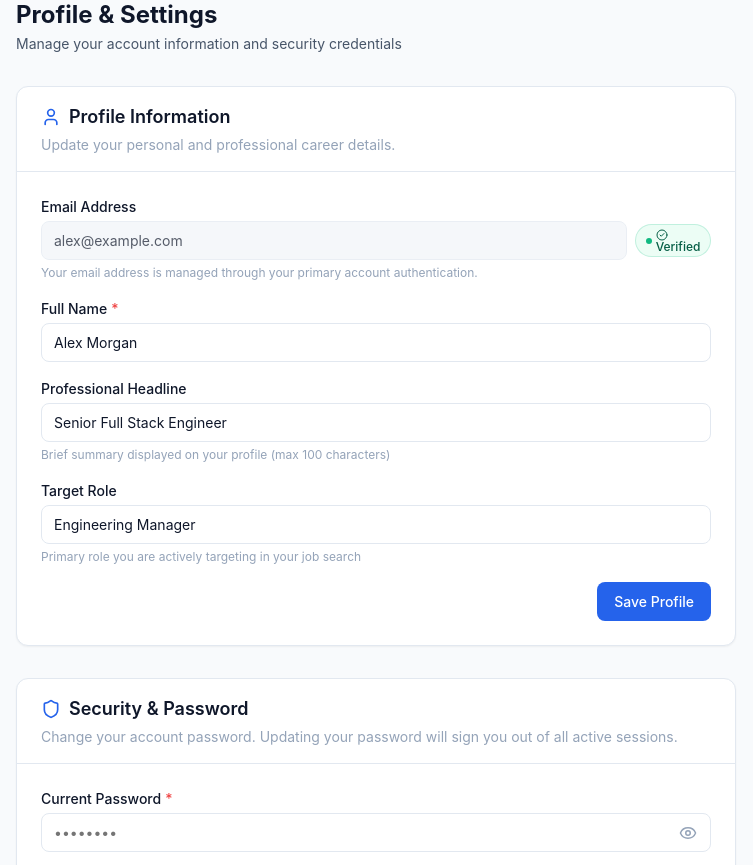
ProfilePage Component (Phase 6.5C) › 16. validates that confirm password must match new password
The width and height of the screenshot is (753, 865).
Type "OldPass123!" into the password field labelled "Current Password *" at (376,832), box [41,813,711,852]
(page scrolled)
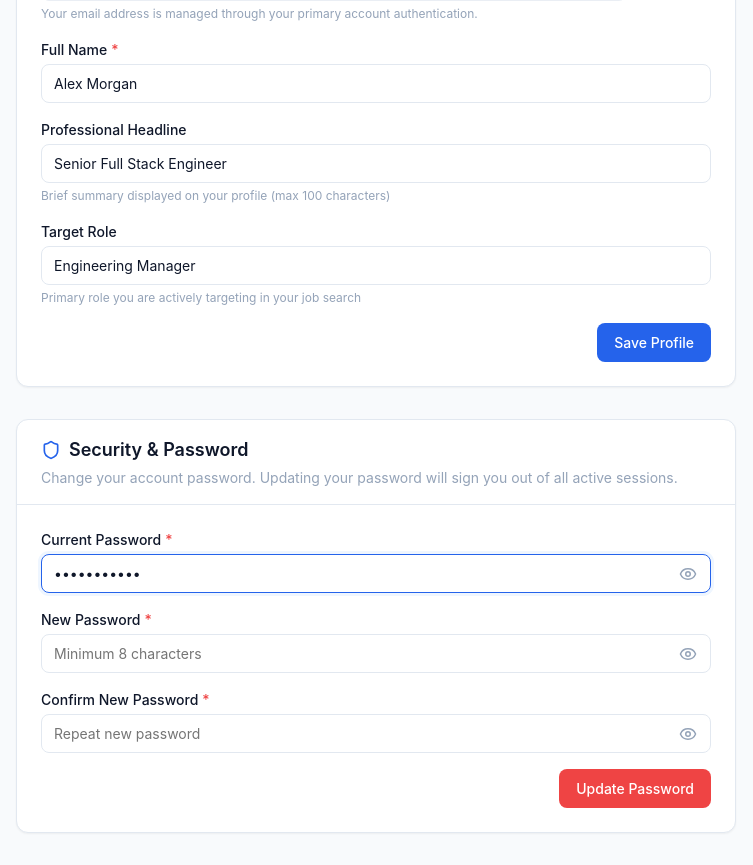
Type "NewStrongPassword123!" into the password field labelled "New Password *" at (376,654), box [41,634,711,673]
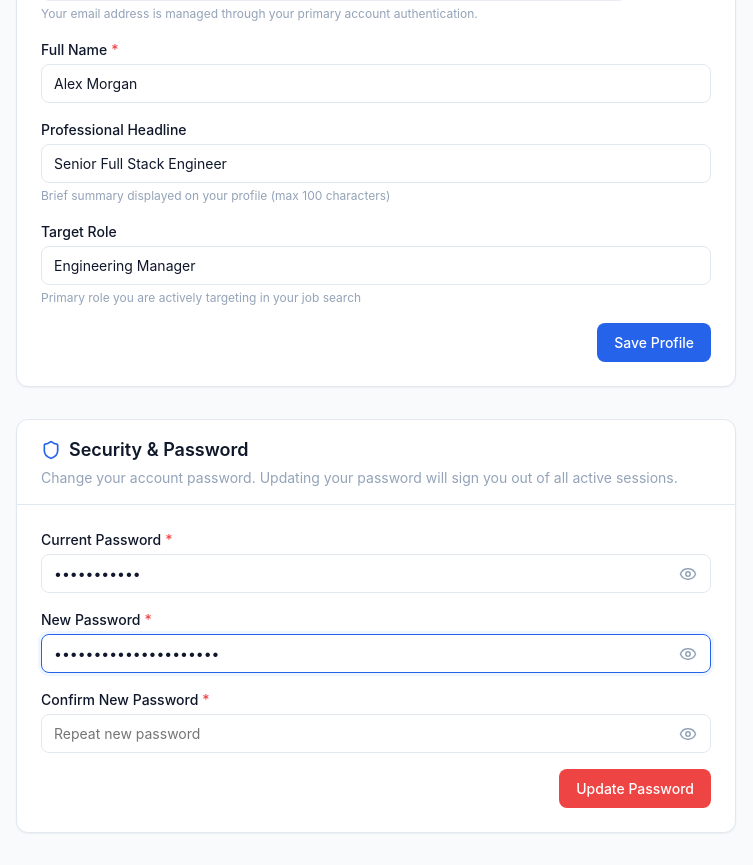
Type "DifferentPassword999!" into the password field labelled "Confirm New Password *" at (376,734), box [41,714,711,753]
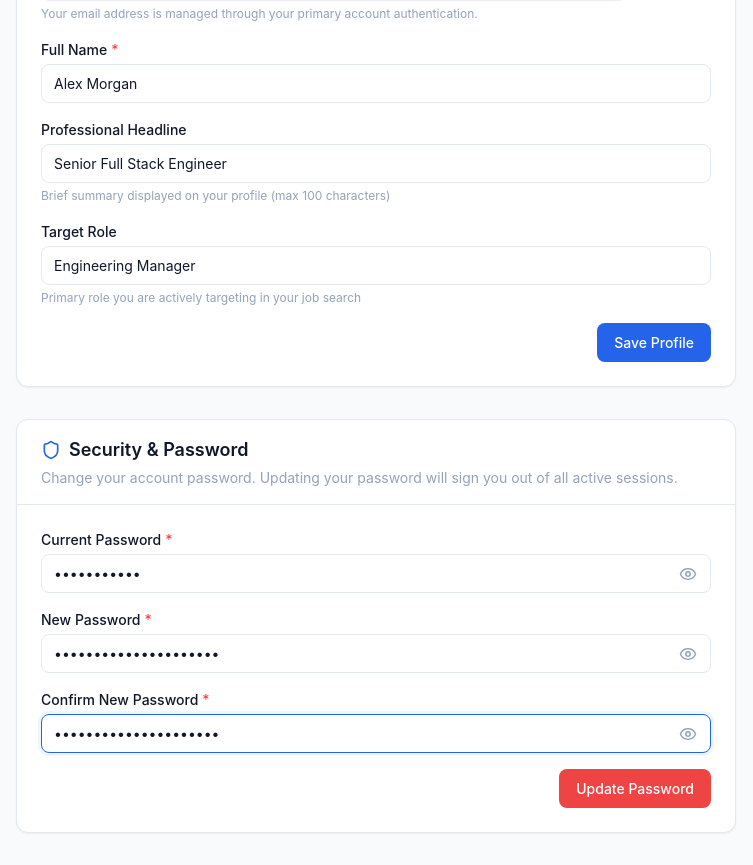
Click the button "Update Password" at (635,788), box [559,769,711,808]
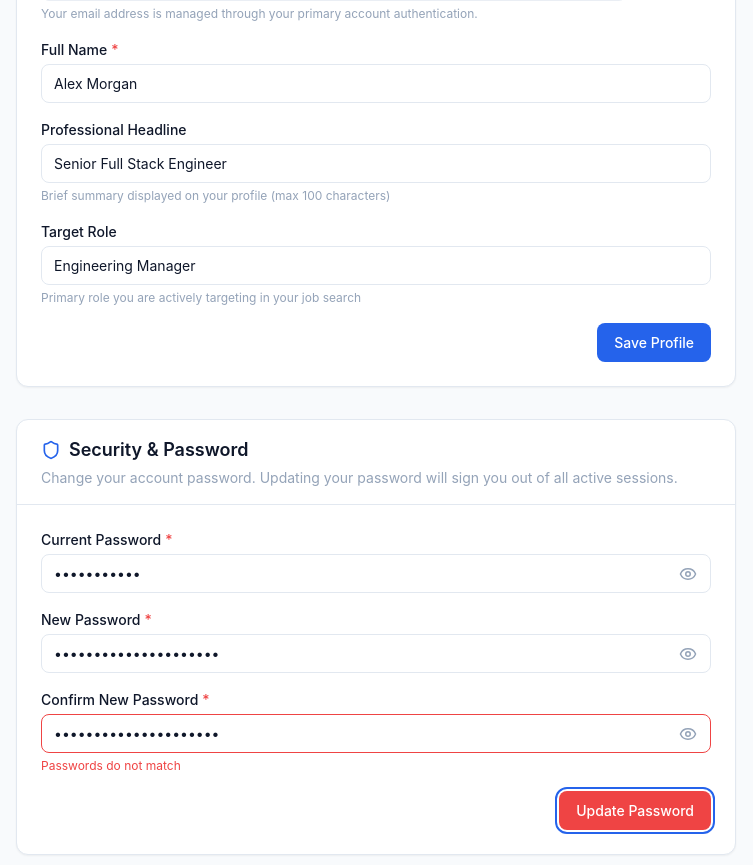
expect the text "Passwords do not match" is shown: met, box [41,758,181,773]
